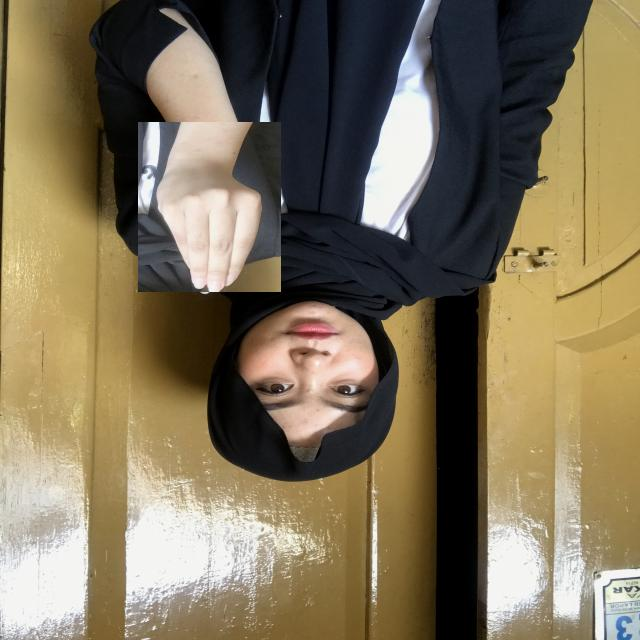kapan: (138, 122, 281, 292)
